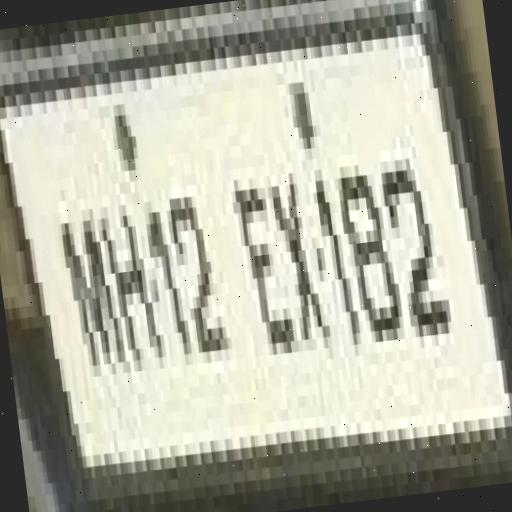number plate: (0, 50, 505, 453)
